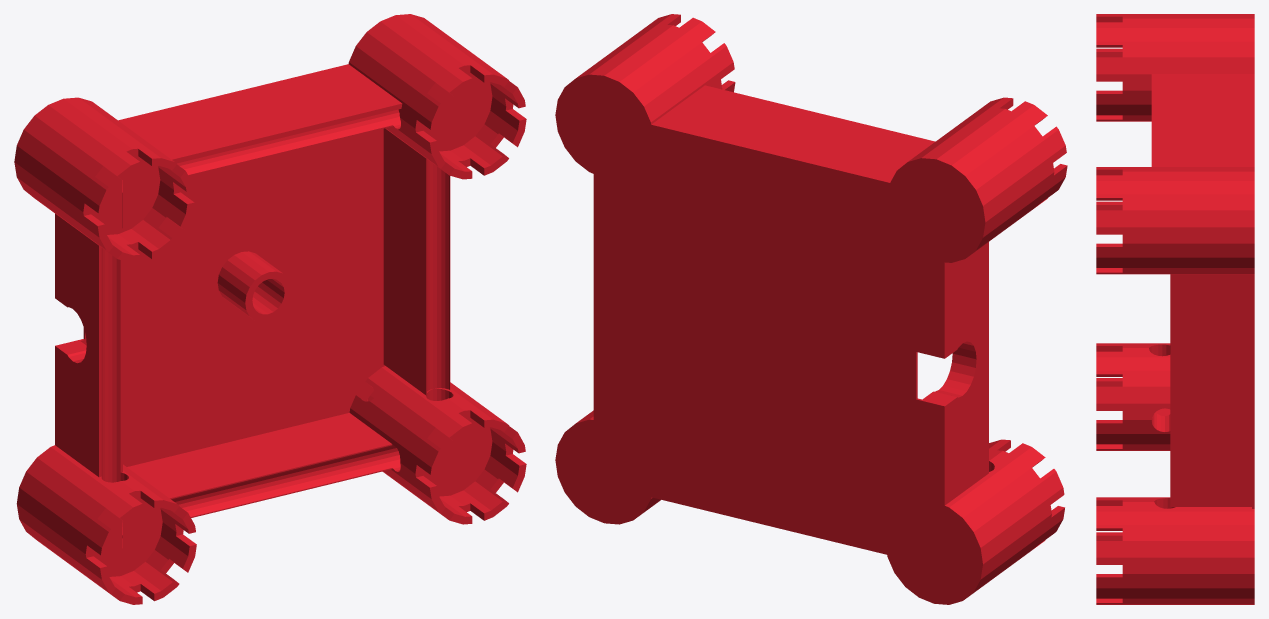
The model's file is tinker.obj.
The picture shows the model from 3 angles, left to right: view 1: azimuth 30°, elevation 25°; view 2: azimuth 150°, elevation 25°; view 3: azimuth 270°, elevation 25°; orthographic projection. The views are drawn at different scales.
Visible parts, largest first — view 1: obj_0; view 2: obj_0; view 3: obj_0.
Boxes of the visible parts, x1,y1,x2,y2 form: obj_0: (14, 14, 526, 604); obj_0: (555, 14, 1067, 604); obj_0: (1096, 14, 1254, 604).
Size of the model in its own units: 180 by 179 by 60.
